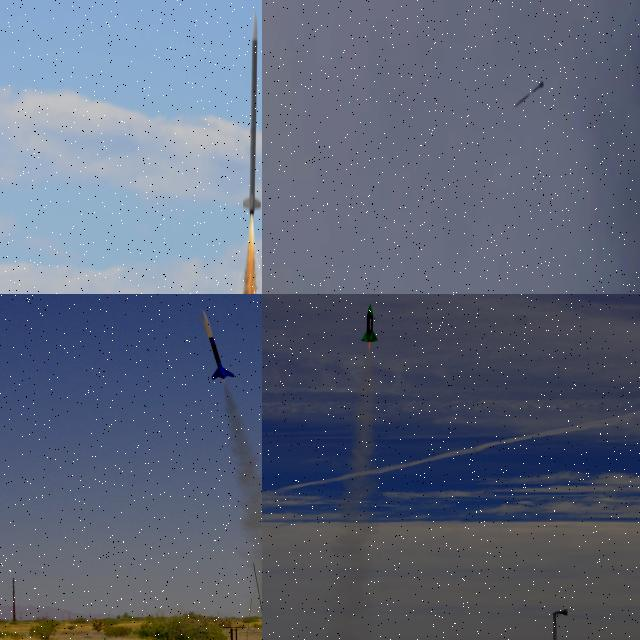Rocket: (242, 10, 261, 215), (202, 309, 235, 380), (515, 80, 544, 107), (361, 304, 378, 342)
